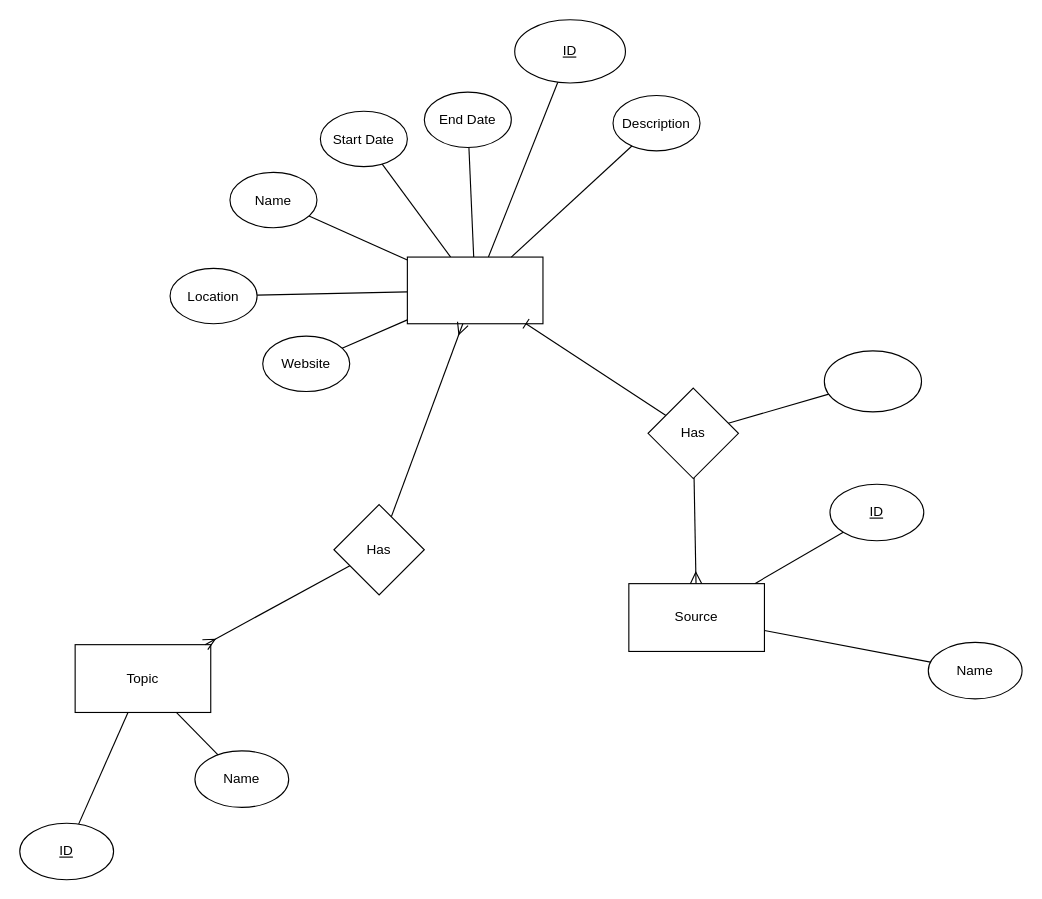
Some shapes in this 1042 by 899 pixel diagram are drawn without their labels. The centre of each missing label's shape, as x and y in pixels:
Conference: point (474, 290)
sourceID: point (872, 381)
